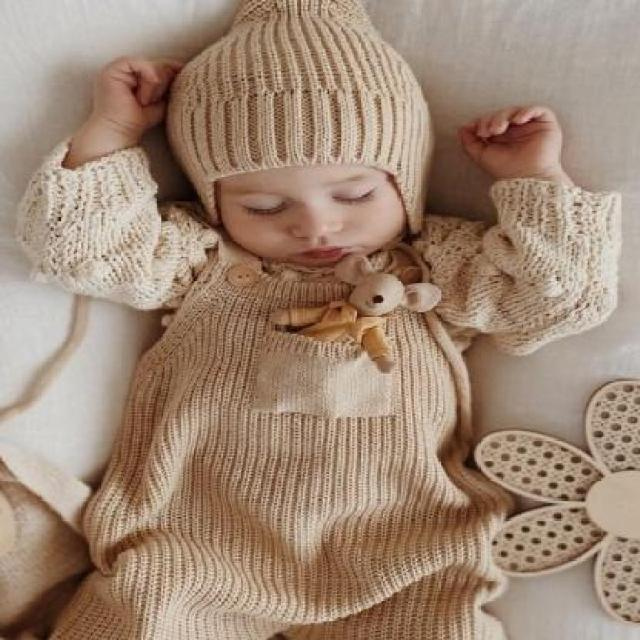baby: (18, 0, 626, 638)
